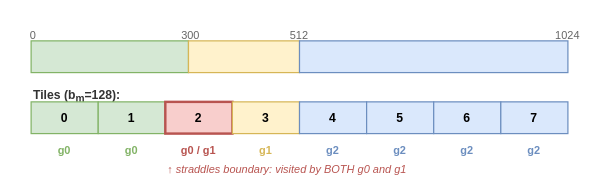
This 605x196 diagram has some shape labels left out. Each missing label, with the centre of its shape:
"group 0" goes at pixel 109 56.
"group 1" goes at pixel 243 56.
"group 2" goes at pixel 433 56.
